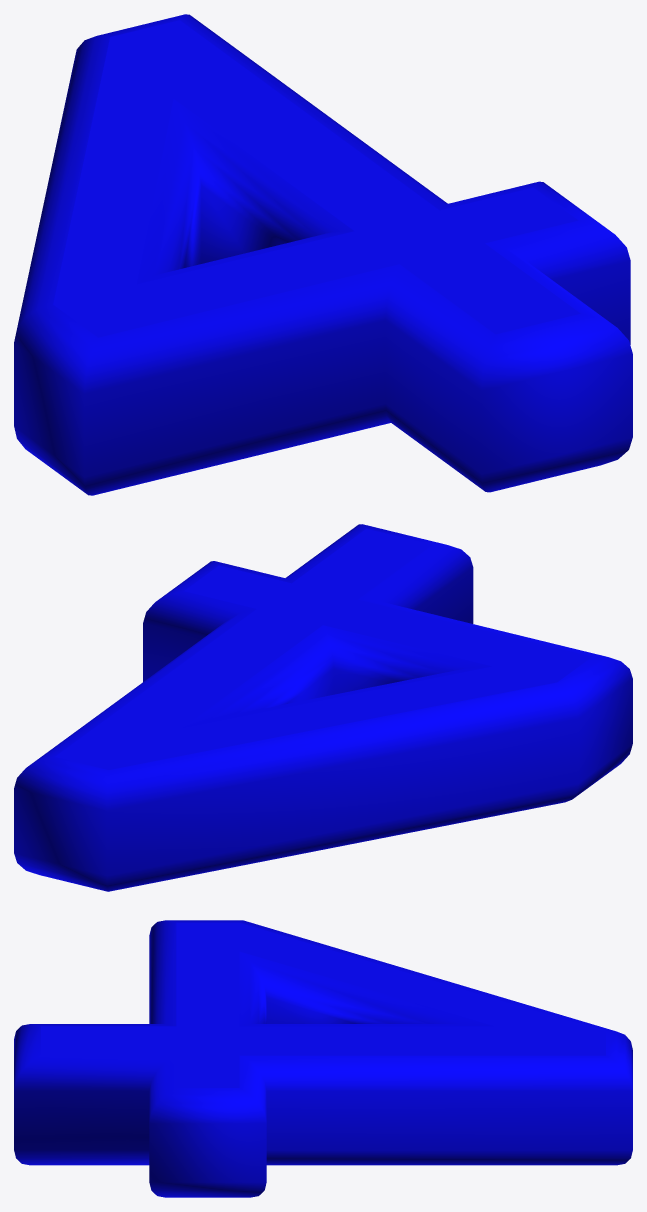
3 views of the same model, one above another, from view 1: azimuth 30°, elevation 25°; view 2: azimuth 150°, elevation 25°; view 3: azimuth 270°, elevation 25° (orthographic). The views are drawn at different scales.
Visible parts, largest first — view 1: texto; view 2: texto; view 3: texto.
Boxes of the visible parts, x1,y1,x2,y2 form: texto: [14, 14, 632, 495]; texto: [14, 524, 632, 891]; texto: [14, 920, 632, 1197].
Bounding box in the file's own units: 0.8271 × 0.22 × 1.15.
